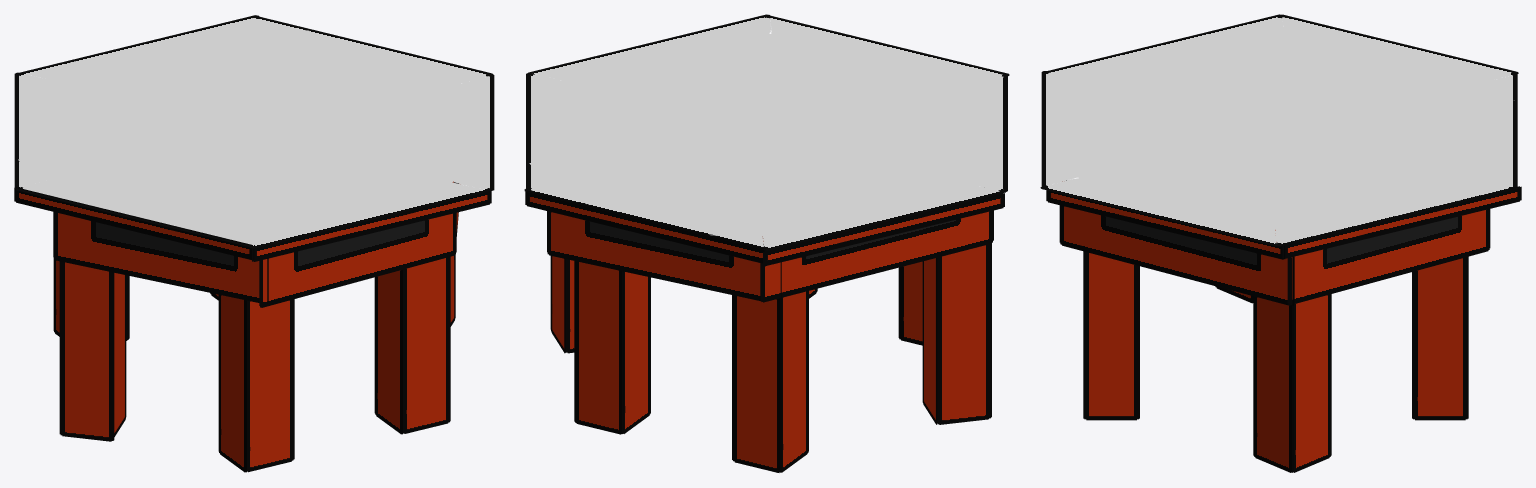
The model's file is 6 sided table.gltf.
The picture shows the model from 3 angles, left to right: view 1: azimuth 30°, elevation 25°; view 2: azimuth 150°, elevation 25°; view 3: azimuth 270°, elevation 25°; orthographic projection.
Parts seen in each view (by area): view 1: default; view 2: default; view 3: default.
Part boxes in pixels (x1,y1,x2,y2): default: (14, 15, 494, 472); default: (524, 14, 1009, 472); default: (1040, 14, 1521, 472).
Bounding box in the file's own units: 36.57 × 17.81 × 32.02.
Materials: 1 (1 with a texture image).
